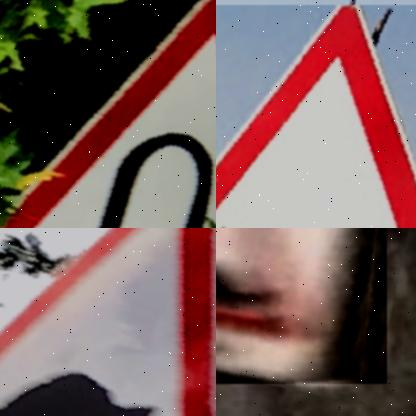Railway Crossing: (216, 6, 416, 228)
Speed Breaker Ahead: (0, 228, 216, 416), (216, 228, 376, 384)
U-Turn: (0, 0, 216, 228)
